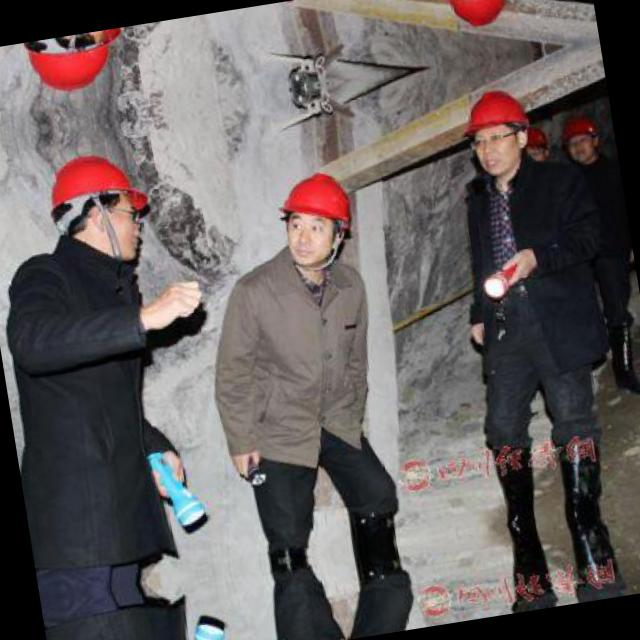helmet: (31, 133, 160, 272), (15, 27, 136, 113), (269, 164, 364, 271), (452, 82, 542, 178), (434, 0, 521, 36), (558, 109, 604, 164), (516, 120, 555, 170)
